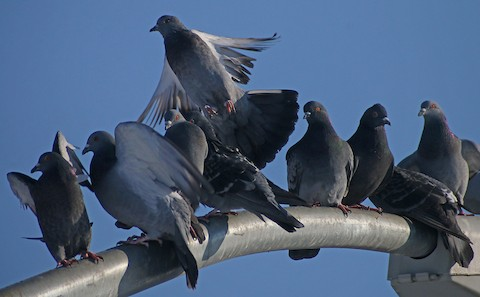pigeon: (133, 12, 304, 175), (75, 120, 218, 279), (160, 103, 310, 243), (6, 146, 106, 270), (388, 95, 471, 220), (328, 96, 399, 216)
